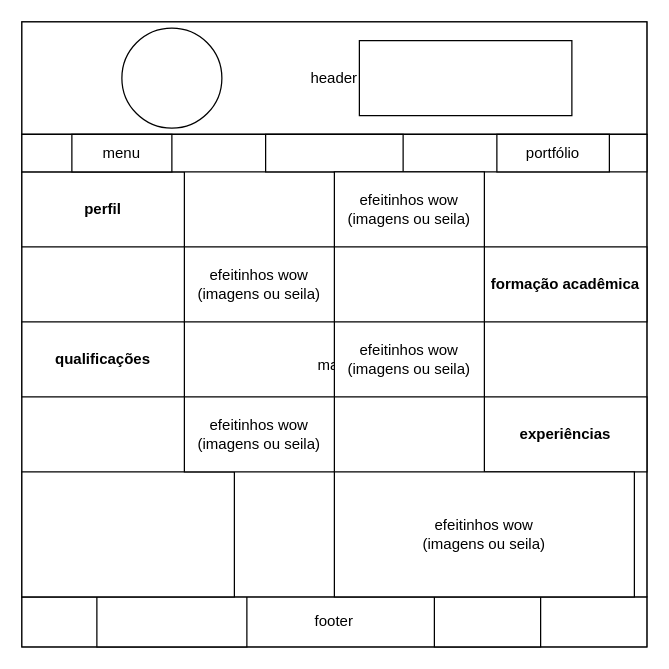
This 669x669 diagram has some shape labels left out. Here are the shapes that lost their labels. From the top down, the centre of each, then its label:
At (x=171, y=77): "imagem".
At (x=465, y=77): "nome informaçoes".
At (x=333, y=152): "home".
At (x=127, y=534): "contato".
At (x=171, y=621): "links".
At (x=487, y=621): "baixar-curriculo".
